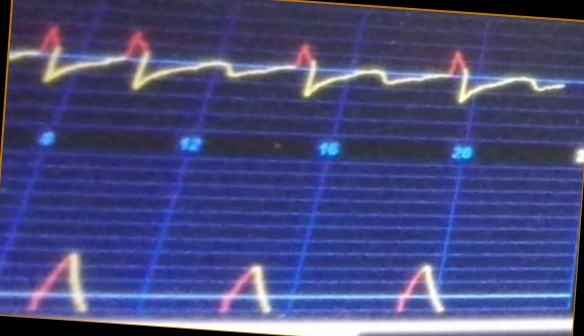Ineffective_effort Flow: (10, 19, 560, 105)
Ineffective_effort Volume: (16, 236, 448, 315)
